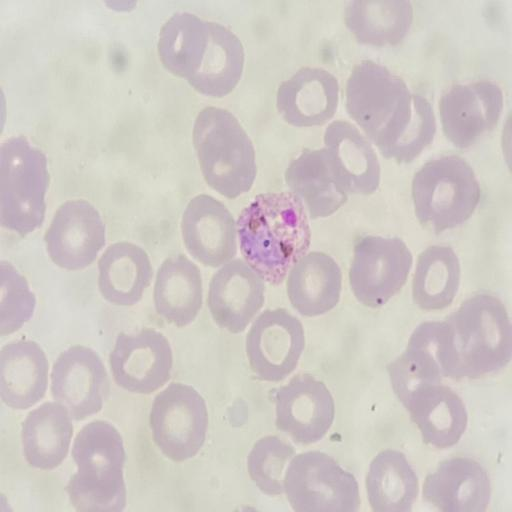Infected: (236, 191, 310, 282)
Uninfected: (158, 12, 243, 95), (390, 360, 467, 446), (191, 104, 256, 197), (442, 295, 509, 378), (410, 156, 479, 233), (346, 62, 412, 141), (0, 137, 50, 232), (149, 384, 210, 459), (349, 236, 412, 307), (322, 119, 382, 193), (283, 451, 358, 510), (284, 149, 347, 219), (396, 320, 461, 387), (438, 80, 502, 147), (245, 308, 303, 381), (273, 374, 335, 442), (45, 200, 106, 269), (180, 194, 238, 266), (110, 329, 172, 395), (207, 261, 266, 330), (50, 347, 108, 417), (276, 67, 339, 128), (70, 421, 126, 486), (152, 257, 205, 325), (95, 241, 151, 305), (424, 456, 488, 512), (0, 339, 48, 407), (365, 450, 418, 511), (21, 404, 72, 467), (286, 254, 339, 314), (345, 0, 412, 47), (411, 246, 460, 310), (393, 93, 437, 160), (249, 435, 297, 494)
